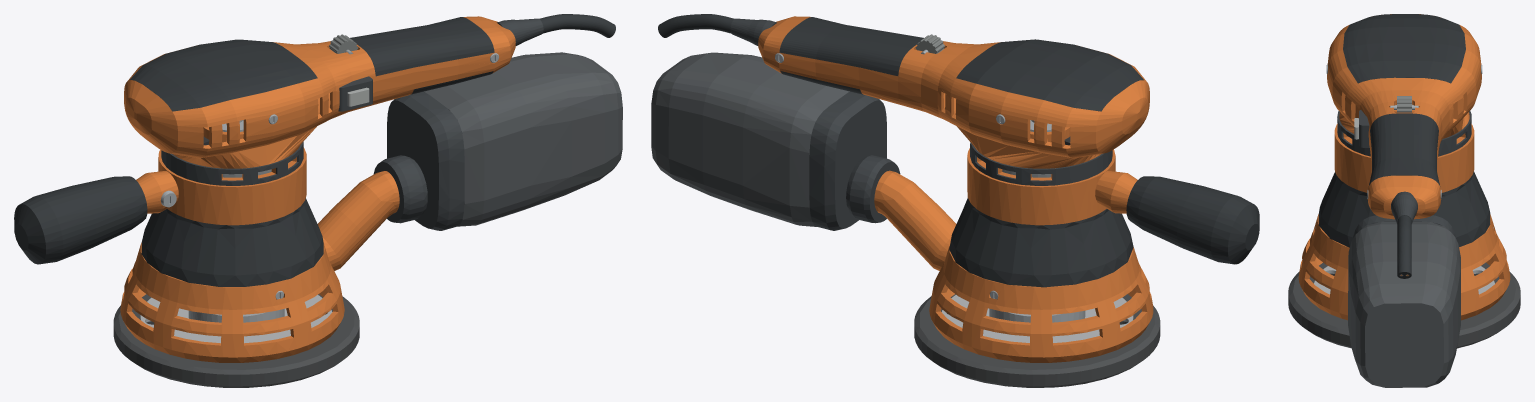
The picture shows the model from 3 angles, left to right: view 1: azimuth 30°, elevation 25°; view 2: azimuth 150°, elevation 25°; view 3: azimuth 270°, elevation 25°; orthographic projection. The views are drawn at different scales.
Visible parts, largest first — view 1: Fabric filter bag, Vented dust shroud, Integrated upper and motor shell, Tapered motor grip, Flattened palm insert, Auxiliary barrel grip, Flexible backing pad, Filter mouth support, Auxiliary clamp and core, Rear crown grip, Upper shoulder cushion, Dust collar (+5 smaller); view 2: Fabric filter bag, Integrated upper and motor shell, Vented dust shroud, Tapered motor grip, Flattened palm insert, Auxiliary barrel grip, Flexible backing pad, Filter mouth support, Auxiliary clamp and core, Rear crown grip, Upper shoulder cushion, Dust collar (+4 smaller); view 3: Fabric filter bag, Integrated upper and motor shell, Flattened palm insert, Vented dust shroud, Tapered motor grip, Rear crown grip, Flexible backing pad, Auxiliary clamp and core, Upper shoulder cushion, Power cord outer jacket, Flexible strain relief, Filter mouth support (+3 smaller).
Part boxes in pixels (box(x1,y1,x2,y2)): Fabric filter bag: box(424, 52, 622, 226); Vented dust shroud: box(120, 171, 399, 362); Integrated upper and motor shell: box(124, 16, 515, 180); Tapered motor grip: box(141, 198, 323, 286); Flattened palm insert: box(130, 39, 317, 111); Auxiliary barrel grip: box(14, 176, 147, 264); Flexible backing pad: box(113, 294, 359, 387); Filter mouth support: box(387, 91, 464, 230); Auxiliary clamp and core: box(136, 147, 306, 225); Rear crown grip: box(350, 17, 494, 76); Upper shoulder cushion: box(161, 142, 303, 185); Dust collar: box(373, 155, 427, 223); Fabric filter bag: box(651, 52, 849, 226); Integrated upper and motor shell: box(758, 16, 1149, 180); Vented dust shroud: box(874, 170, 1153, 362); Tapered motor grip: box(949, 198, 1133, 287); Flattened palm insert: box(956, 39, 1143, 111); Auxiliary barrel grip: box(1126, 176, 1259, 264); Flexible backing pad: box(914, 294, 1160, 387); Filter mouth support: box(809, 91, 886, 230); Auxiliary clamp and core: box(967, 148, 1137, 225); Rear crown grip: box(779, 17, 923, 76); Upper shoulder cushion: box(970, 142, 1112, 185); Dust collar: box(846, 155, 900, 223); Fabric filter bag: box(1348, 221, 1460, 387); Integrated upper and motor shell: box(1327, 14, 1481, 219); Flattened palm insert: box(1343, 14, 1465, 83); Vented dust shroud: box(1298, 214, 1510, 320); Tapered motor grip: box(1318, 171, 1490, 247); Rear crown grip: box(1368, 113, 1440, 186); Flexible backing pad: box(1288, 262, 1520, 348); Auxiliary clamp and core: box(1334, 124, 1474, 192); Upper shoulder cushion: box(1337, 111, 1471, 156); Power cord outer jacket: box(1397, 215, 1411, 278); Flexible strain relief: box(1391, 191, 1417, 223); Filter mouth support: box(1353, 215, 1455, 238).
Size of the model in its own units: 0.2809 by 0.1255 by 0.1009.
